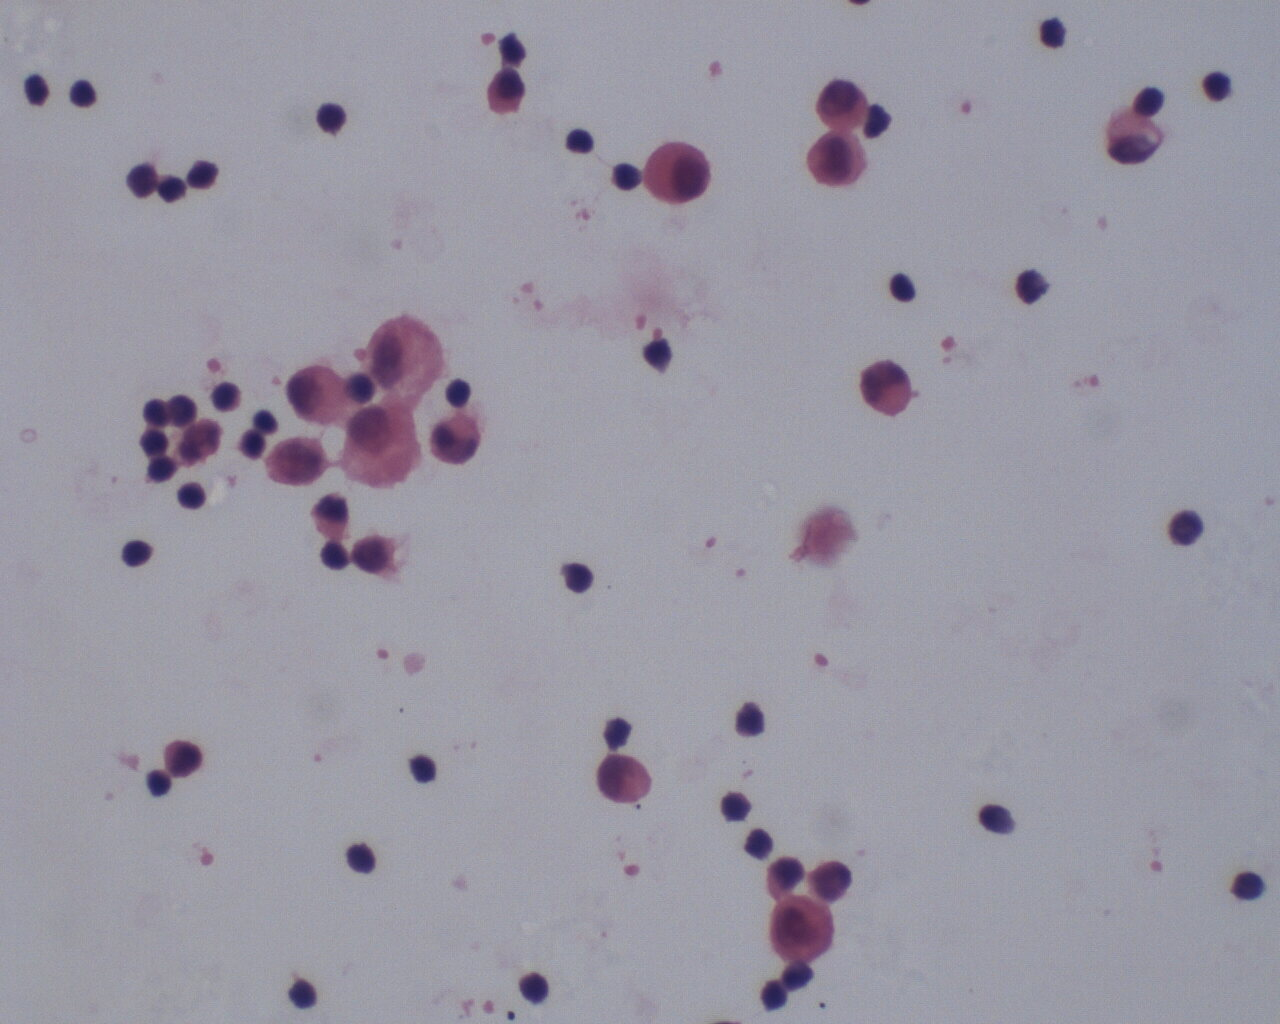ab: (804, 132, 870, 193)
histo: (366, 311, 445, 398)
lymph: (116, 530, 158, 580), (124, 152, 161, 203), (1229, 865, 1267, 912), (561, 555, 601, 596), (63, 79, 104, 117), (1035, 11, 1074, 51), (341, 840, 381, 878), (408, 748, 441, 792), (883, 269, 921, 307), (741, 828, 778, 865), (311, 100, 347, 140), (519, 968, 557, 1004), (563, 123, 599, 157)
meso: (644, 135, 713, 210), (282, 360, 346, 426)
